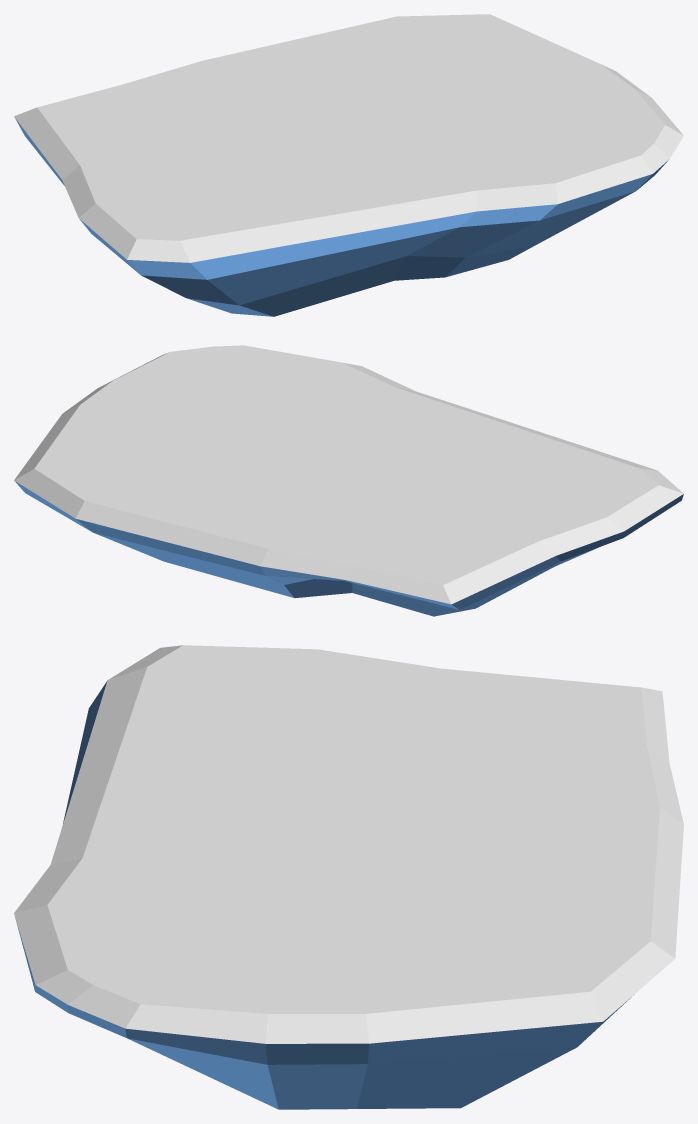
The model's file is slippery platform.fbx.
3 renders of one model, top to bottom at view 1: azimuth 30°, elevation 25°; view 2: azimuth 150°, elevation 25°; view 3: azimuth 270°, elevation 25°, orthographic. The views are drawn at different scales.
Parts seen in each view (by area): view 1: Plane; view 2: Plane; view 3: Plane.
Part boxes in pixels (bbox=[...]): Plane: bbox=[14, 14, 683, 316]; Plane: bbox=[14, 345, 683, 616]; Plane: bbox=[14, 645, 683, 1109].
Size of the model in its own units: 163 by 31.09 by 117.
